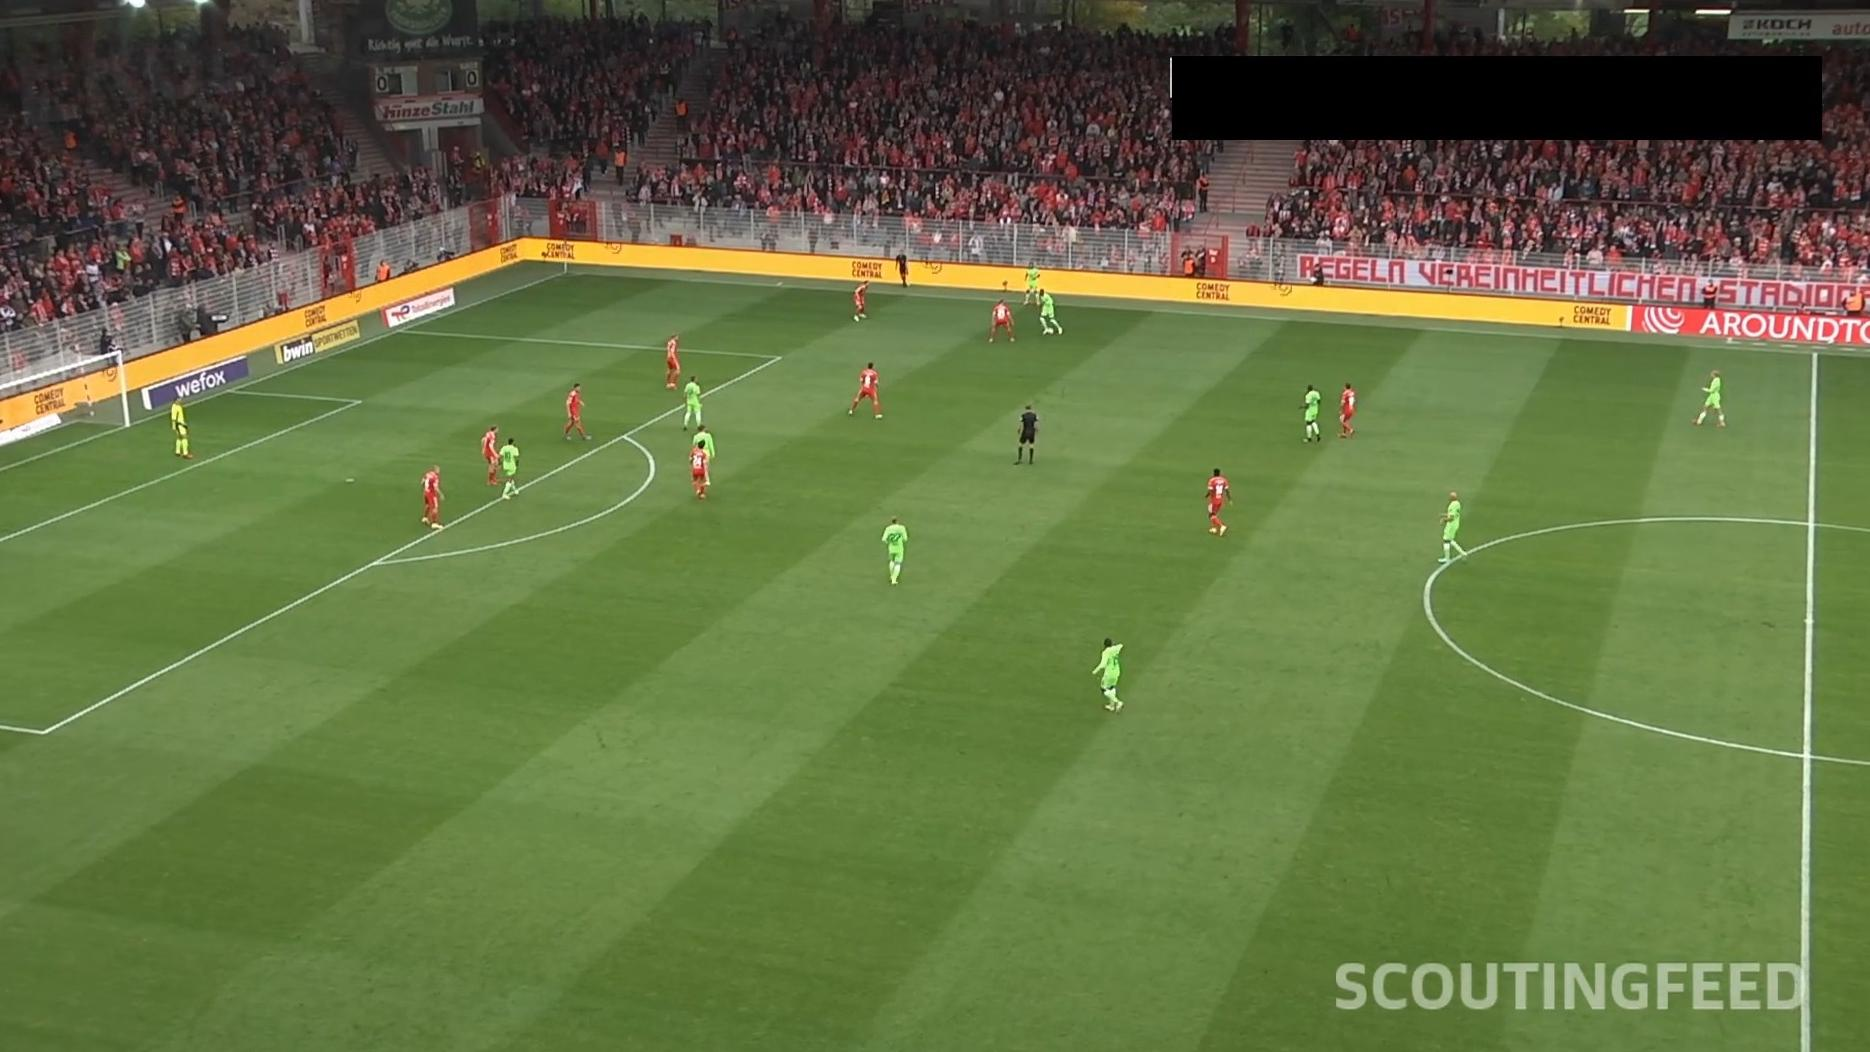ball: (1045, 326, 1054, 335)
